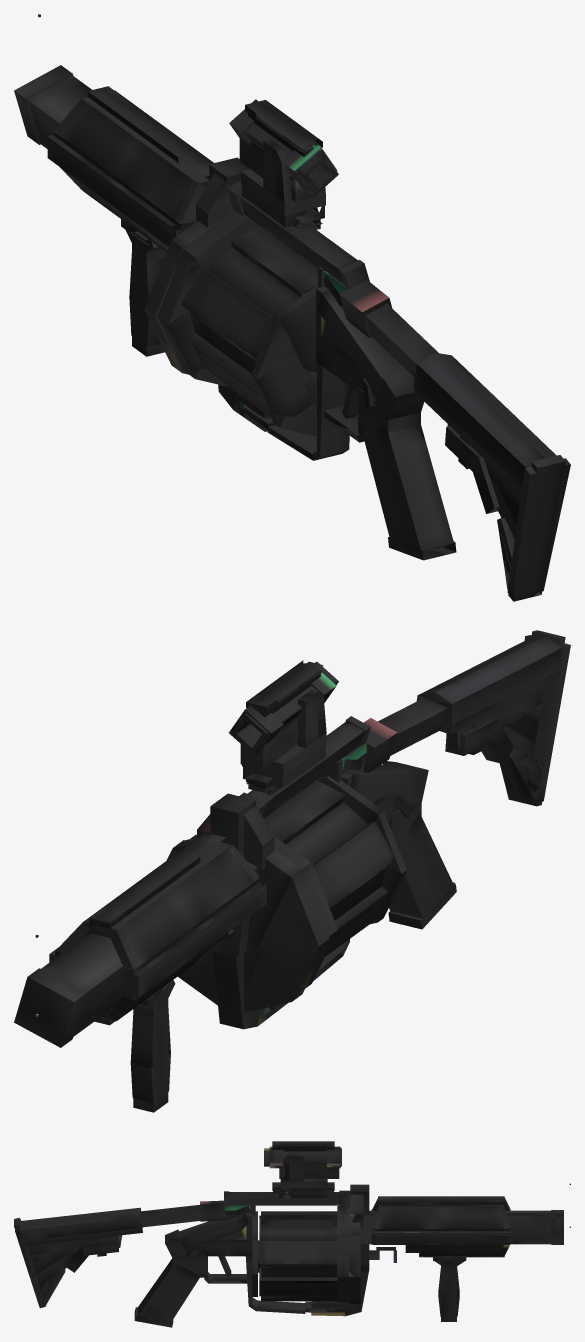
File: m32mgl.obj
3 renders of one model, top to bottom at view 1: azimuth 30°, elevation 25°; view 2: azimuth 150°, elevation 25°; view 3: azimuth 270°, elevation 25°, orthographic. The views are drawn at different scales.
Parts seen in each view (by area): view 1: gun_7, rotatey_38, stock_29, chamber_48, stock, grip; view 2: gun_7, stock_29, rotatey_38, chamber_48, stock, grip; view 3: gun_7, rotatey_38, stock_29, chamber_48, stock, grip.
Part boxes in pixels (<box>): gun_7: <box>14,65,360,431</box>; rotatey_38: <box>244,259,456,560</box>; stock_29: <box>366,303,570,601</box>; chamber_48: <box>180,226,318,416</box>; stock: <box>229,99,338,227</box>; grip: <box>121,219,166,356</box>; gun_7: <box>14,721,364,1047</box>; stock_29: <box>378,630,570,806</box>; rotatey_38: <box>269,716,456,1009</box>; chamber_48: <box>195,780,394,966</box>; stock: <box>229,660,338,788</box>; grip: <box>130,980,175,1112</box>; gun_7: <box>229,1182,563,1316</box>; rotatey_38: <box>134,1191,331,1327</box>; stock_29: <box>14,1205,200,1308</box>; chamber_48: <box>258,1211,396,1301</box>; stock: <box>264,1141,341,1194</box>; grip: <box>433,1256,466,1321</box>.
Size of the model in its own units: 1.16 by 2.11 by 5.93.
